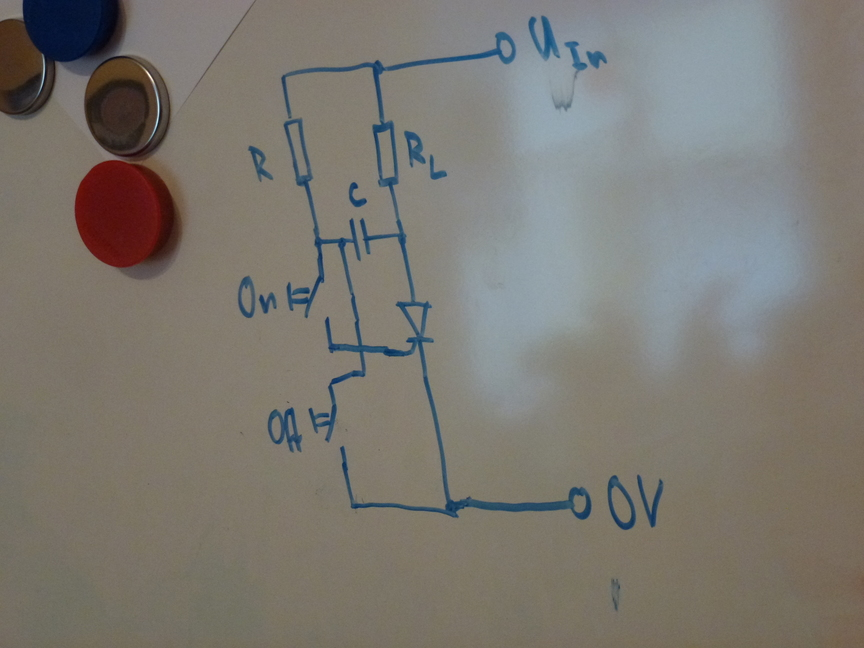capacitor.unpolarized: (349, 217, 372, 261)
crossover: (354, 341, 368, 356)
junction: (442, 497, 463, 520), (371, 58, 385, 77), (395, 230, 409, 244), (325, 341, 338, 355), (358, 366, 370, 380), (312, 236, 325, 248), (336, 236, 347, 250), (348, 498, 359, 511), (280, 71, 290, 82), (327, 377, 335, 390)
resistor: (283, 116, 315, 187), (372, 120, 400, 187)
switch: (286, 276, 331, 322), (308, 405, 347, 453)
terminal: (566, 485, 593, 522), (492, 30, 518, 66)
text: (527, 15, 609, 71), (606, 474, 665, 530), (403, 130, 448, 181), (237, 275, 278, 318), (267, 407, 304, 453), (247, 144, 276, 183), (347, 181, 368, 209)
thyristor: (395, 300, 435, 356)
